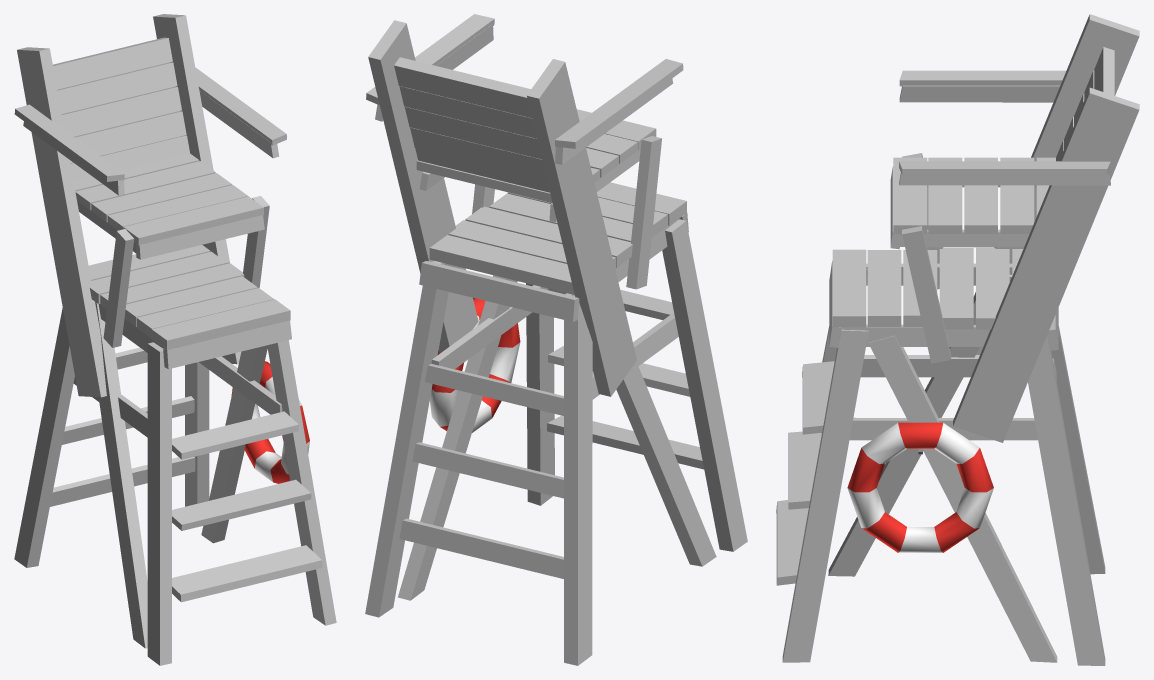
Rendered from Lifeguard_chair_01.fbx.
The picture shows the model from 3 angles, left to right: view 1: azimuth 30°, elevation 25°; view 2: azimuth 150°, elevation 25°; view 3: azimuth 270°, elevation 25°; orthographic projection. The views are drawn at different scales.
Visible parts, largest first — view 1: Lifeguard_chair_01; view 2: Lifeguard_chair_01; view 3: Lifeguard_chair_01.
Boxes of the visible parts, x1,y1,x2,y2 form: Lifeguard_chair_01: (14, 14, 336, 665); Lifeguard_chair_01: (365, 14, 747, 665); Lifeguard_chair_01: (776, 14, 1139, 665).
Size of the model in its own units: 88.89 by 233 by 136.
